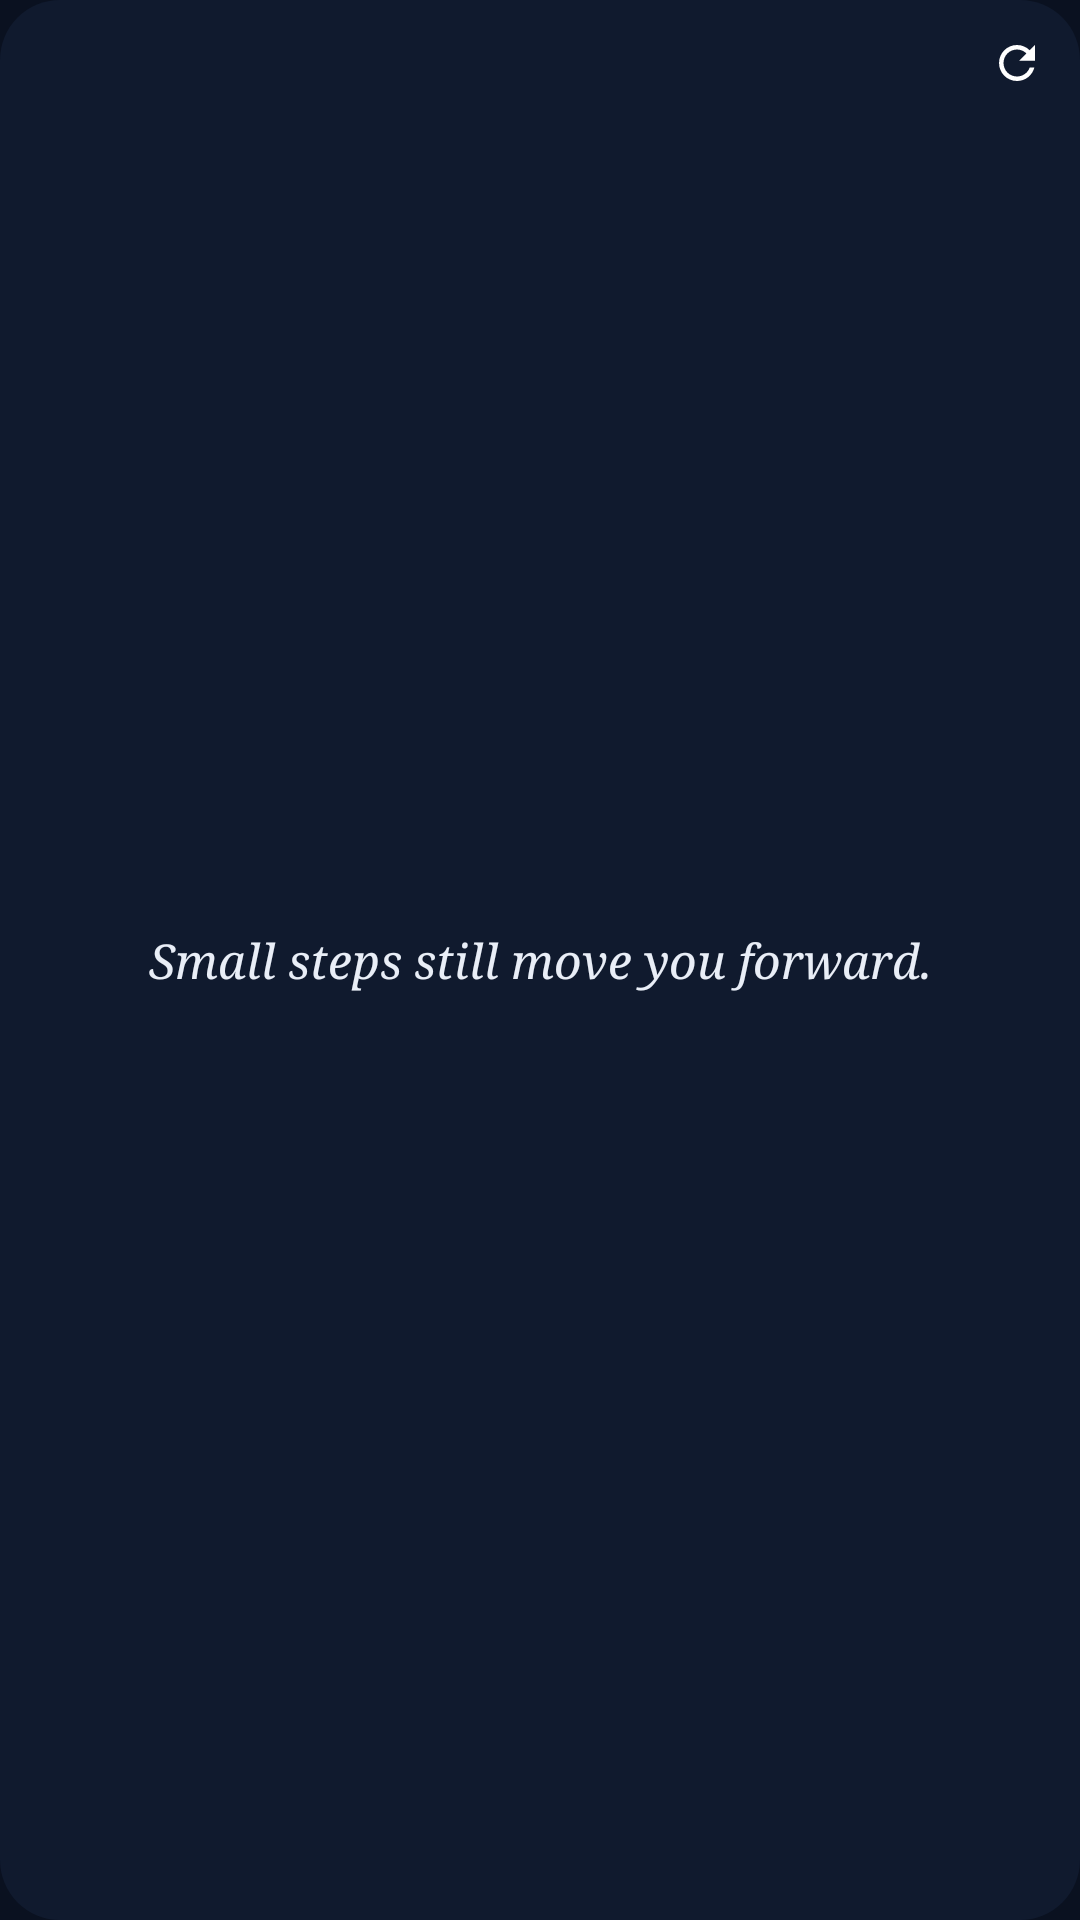

Where icons sit on this 1080*1920 app screen, as [x1, y1, x2, y2]:
Next quote: [999, 45, 1035, 81]
